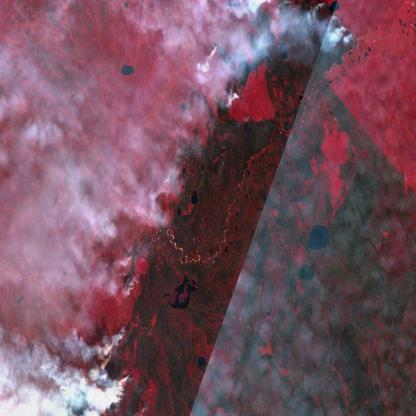fire: (88, 0, 360, 416)
